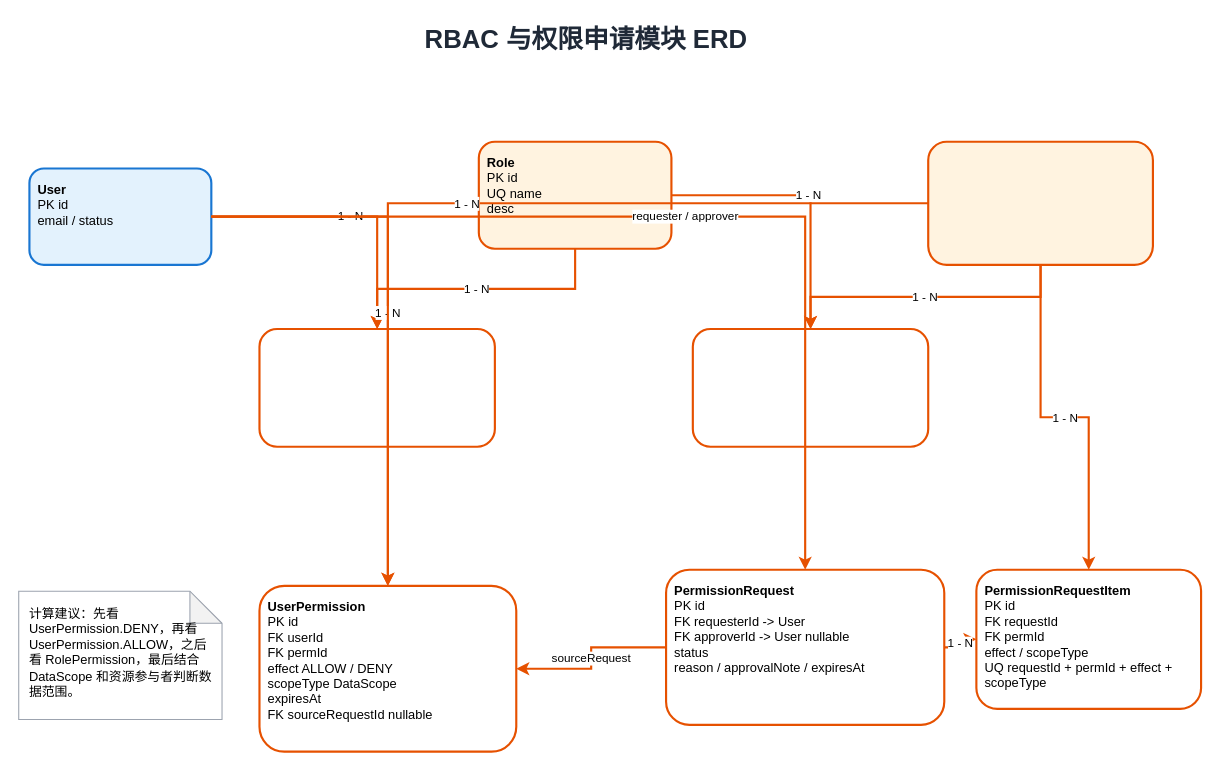
Some shapes in this 1221 by 770 pixel diagram are drawn without their labels. Here are the shapes that lost their labels. From the top down, the centre of each, then its label:
(1040,202): Permission PK id UQ code module / action UQ module + action
(376,387): UserRole PK userId + roleId FK userId FK roleId assignedAt
(810,387): RolePermission PK roleId + permId FK roleId FK permId grantedAt
